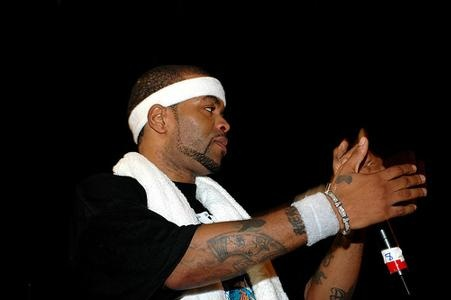person without safety: (89, 52, 266, 300)
